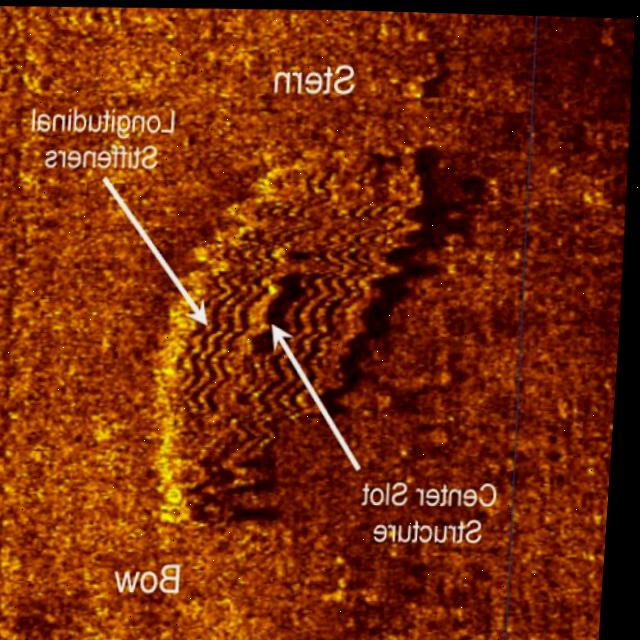shipwreck: (152, 139, 434, 519)
